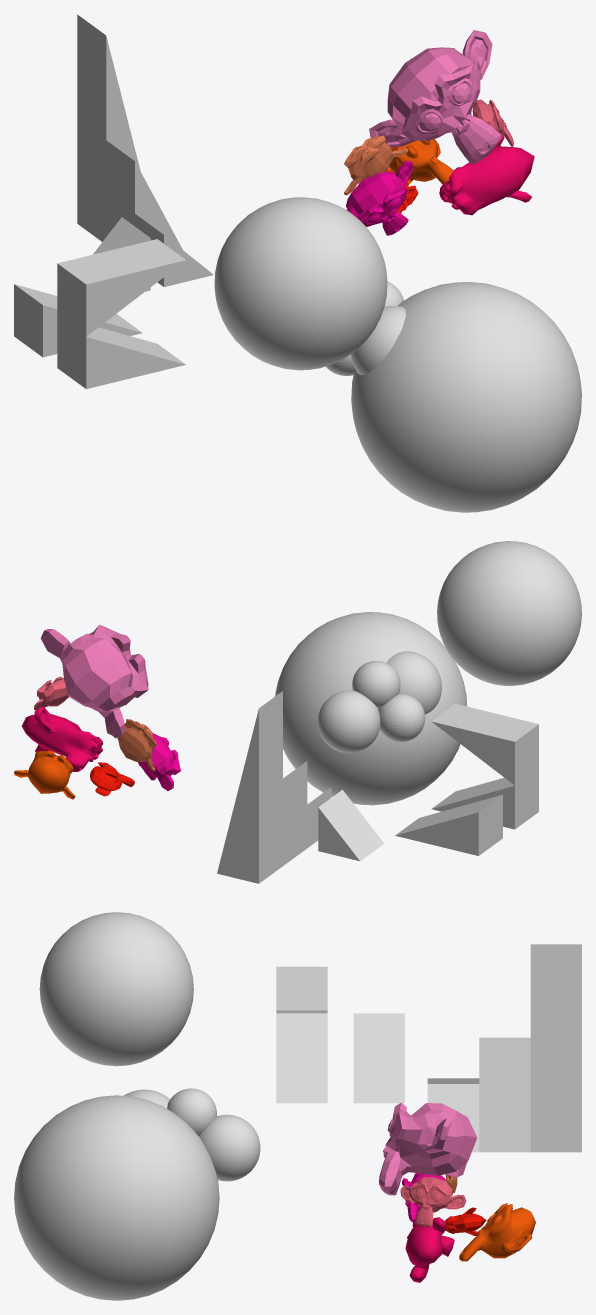
File: collisionTestNoWalls.gltf
3 views of the same model, one above another, from view 1: azimuth 30°, elevation 25°; view 2: azimuth 150°, elevation 25°; view 3: azimuth 270°, elevation 25° (orthographic). The views are drawn at different scales.
Parts seen in each view (by area): view 1: Icosphere.005, Icosphere.001, Suzanne.005, Cube.001, Cube.003, Cube.007, Suzanne.004, Cube.005, Cube.006, Suzanne, Icosphere, Suzanne.002 (+4 smaller); view 2: Icosphere.005, Icosphere.001, Cube.001, Suzanne.005, Cube.003, Cube.006, Icosphere.004, Cube.002, Suzanne.004, Cube.007, Cube.005, Icosphere (+8 smaller); view 3: Icosphere.005, Icosphere.001, Cube.001, Suzanne.005, Cube.005, Cube.007, Cube.006, Icosphere.004, Suzanne.002, Cube.003, Suzanne.004, Suzanne.006 (+3 smaller).
Boxes of the visible parts, x1,y1,x2,y2 form: Icosphere.005: (351,282,581,512); Icosphere.001: (214,197,387,370); Suzanne.005: (369,30,501,164); Cube.001: (77,14,140,241); Cube.003: (57,239,185,336); Cube.007: (57,316,185,389); Suzanne.004: (439,135,534,215); Cube.005: (106,140,182,249); Cube.006: (14,284,142,357); Suzanne: (346,160,413,235); Icosphere: (351,306,405,375); Suzanne.002: (386,139,453,184); Icosphere.005: (275,612,467,805); Icosphere.001: (437,541,581,685); Cube.001: (217,691,282,883); Suzanne.005: (40,624,148,738); Cube.003: (431,703,538,785); Cube.006: (395,794,502,855); Icosphere.004: (318,690,380,753); Cube.002: (318,790,384,861); Suzanne.004: (21,706,103,771); Cube.007: (431,768,538,829); Cube.005: (283,761,307,865); Icosphere: (386,651,441,714); Icosphere.005: (14,1095,219,1300); Icosphere.001: (39,912,193,1066); Cube.001: (530,944,581,1152); Suzanne.005: (379,1102,477,1195); Cube.005: (479,1037,530,1152); Cube.007: (276,1013,327,1103); Cube.006: (353,1013,404,1103); Icosphere.004: (199,1114,260,1181); Suzanne.002: (459,1203,535,1261); Cube.003: (276,966,327,1013); Suzanne.004: (405,1217,454,1282); Suzanne.006: (400,1177,466,1226).
Size of what is drawn, in the model's own units: 21.21 by 12.88 by 22.1.
